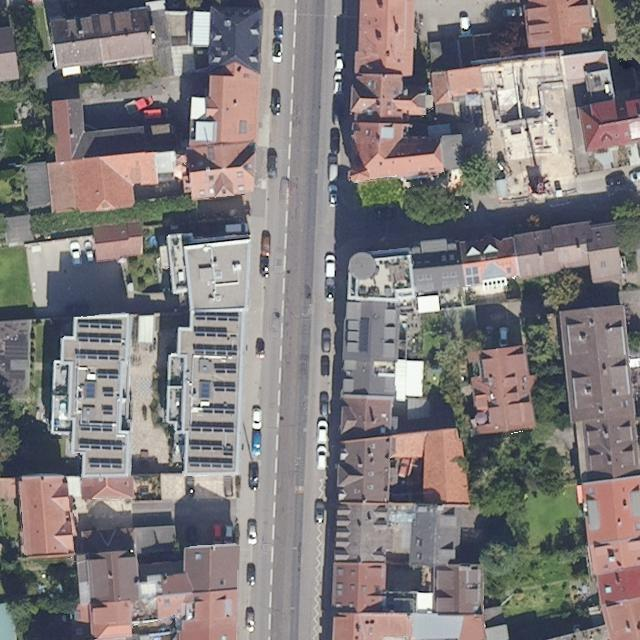PV: (188, 458, 233, 470), (358, 316, 371, 354), (190, 446, 234, 456), (195, 312, 239, 321), (193, 349, 237, 358), (194, 328, 230, 339), (192, 423, 234, 432), (464, 266, 481, 285), (78, 323, 122, 330), (78, 337, 122, 344), (79, 444, 123, 451), (75, 354, 120, 360), (203, 407, 234, 414), (80, 426, 113, 432), (89, 463, 122, 469), (214, 384, 235, 392), (238, 119, 248, 134), (97, 374, 119, 380), (216, 367, 236, 373), (103, 392, 115, 397), (102, 411, 113, 416)
